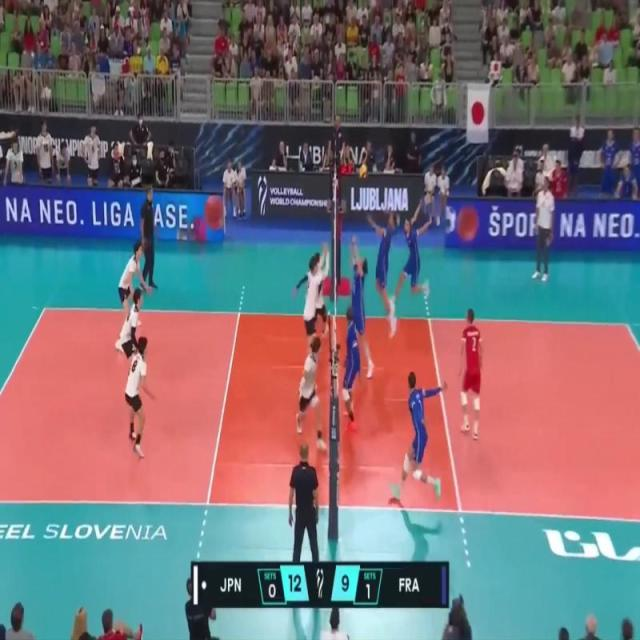volleyball: (359, 163, 369, 180)
